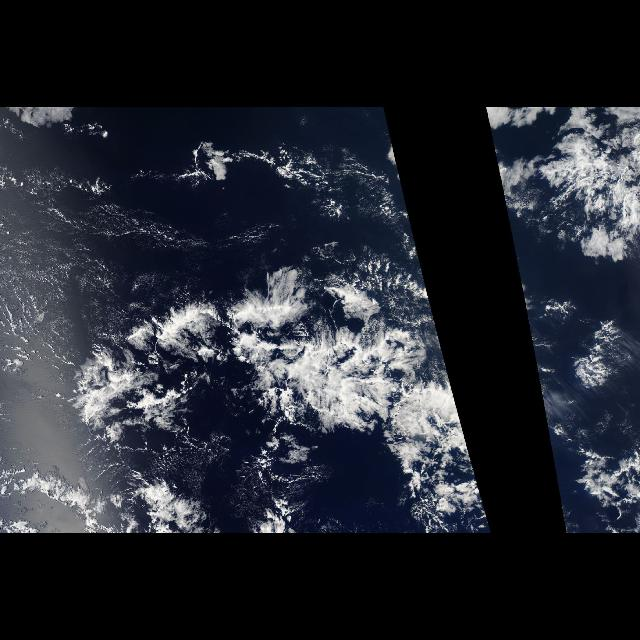Fish: (62, 265, 484, 511)
Gravel: (13, 151, 407, 223)
Sugar: (0, 153, 150, 349)
